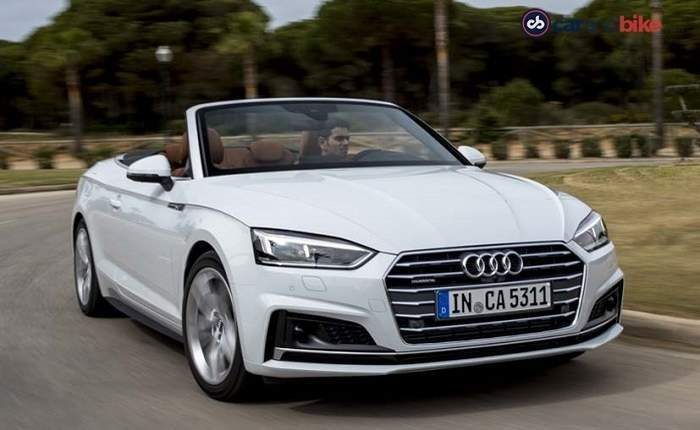audi: (457, 250, 524, 283)
